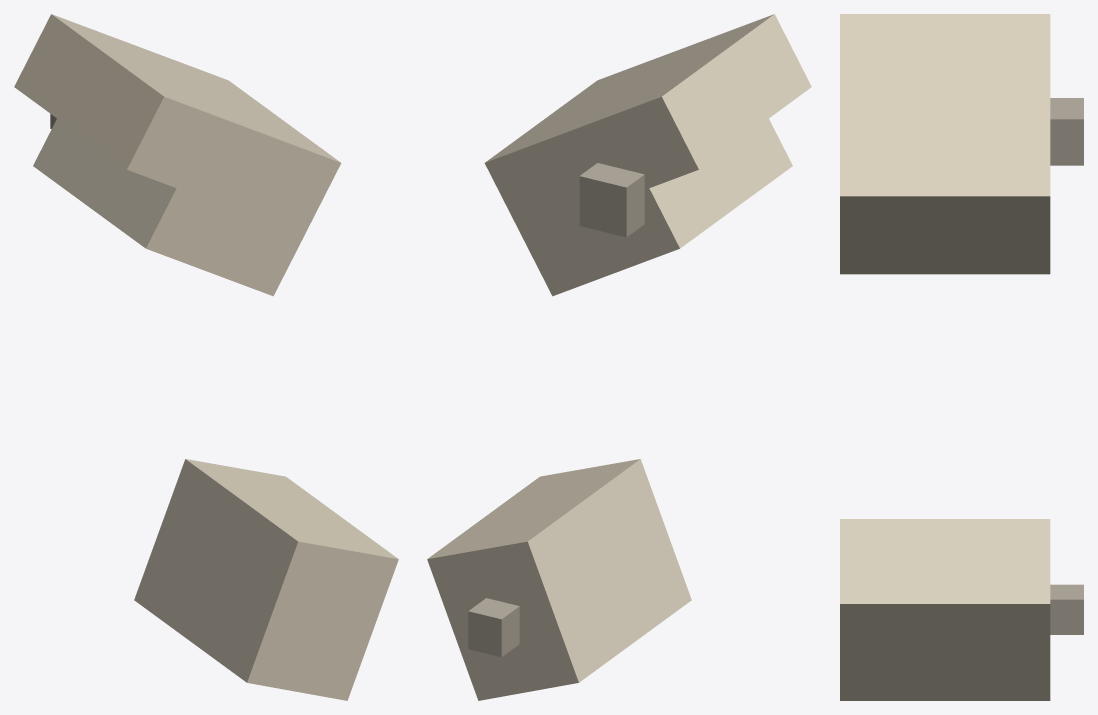
File: historic-palestine-12_32_3541_3260.glb
The picture shows the model from 3 angles, left to right: view 1: azimuth 30°, elevation 25°; view 2: azimuth 150°, elevation 25°; view 3: azimuth 270°, elevation 25°; orthographic projection. The views are drawn at different scales.
Visible parts, largest first — view 1: Building_, Building_.001; view 2: Building_, Building_.001, Roof access hut, Roof access hut .001; view 3: Building_, Building_.001, Roof access hut, Roof access hut .001.
Part boxes in pixels (<box>): Building_: <box>14,14,341,296</box>; Building_.001: <box>134,459,398,700</box>; Building_: <box>484,14,811,296</box>; Building_.001: <box>427,459,691,700</box>; Roof access hut: <box>579,163,644,237</box>; Roof access hut .001: <box>468,598,519,657</box>; Building_: <box>840,14,1050,274</box>; Building_.001: <box>840,519,1050,700</box>; Roof access hut: <box>1050,98,1083,165</box>; Roof access hut .001: <box>1050,584,1083,634</box>.
Size of the model in its own units: 10.43 by 23.78 by 8.7.
